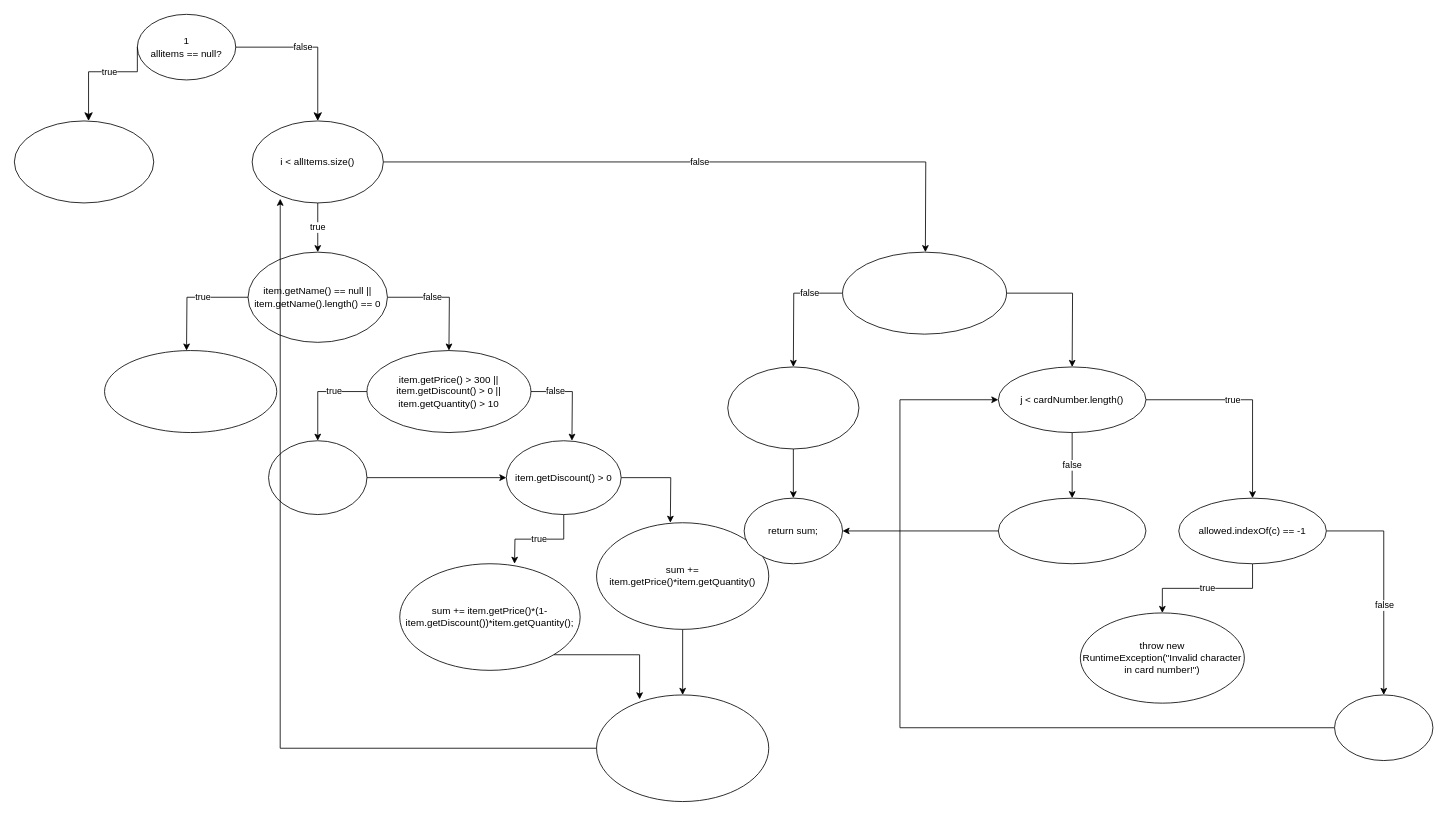
The diagram is 1447 pixels wide and 816 high, and some of its shapes have lost their labels. Here are the shapes that lost their labels. From the top down, the centre of each, then its label:
the point at 84,161: throw new RuntimeException("allItems list can't be null!");
the point at 924,292: cardNumber != null && cardNumber.length() == 16
the point at 190,391: throw new RuntimeException("Invalid item!")
the point at 793,407: throw new RuntimeException("Invalid card number!")
the point at 317,477: sum -= 30;
